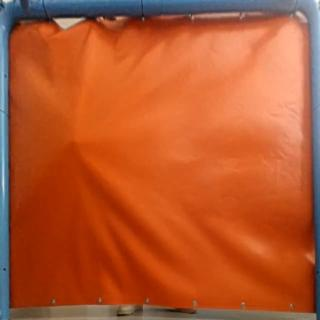Hit-hRxx: (68, 134, 83, 148)
